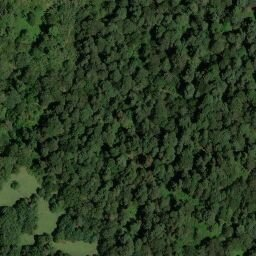forest: (1, 29, 256, 168), (50, 168, 256, 242), (42, 1, 256, 29), (97, 241, 256, 256), (1, 206, 37, 234), (2, 244, 51, 255), (34, 231, 50, 256), (1, 231, 21, 244)
